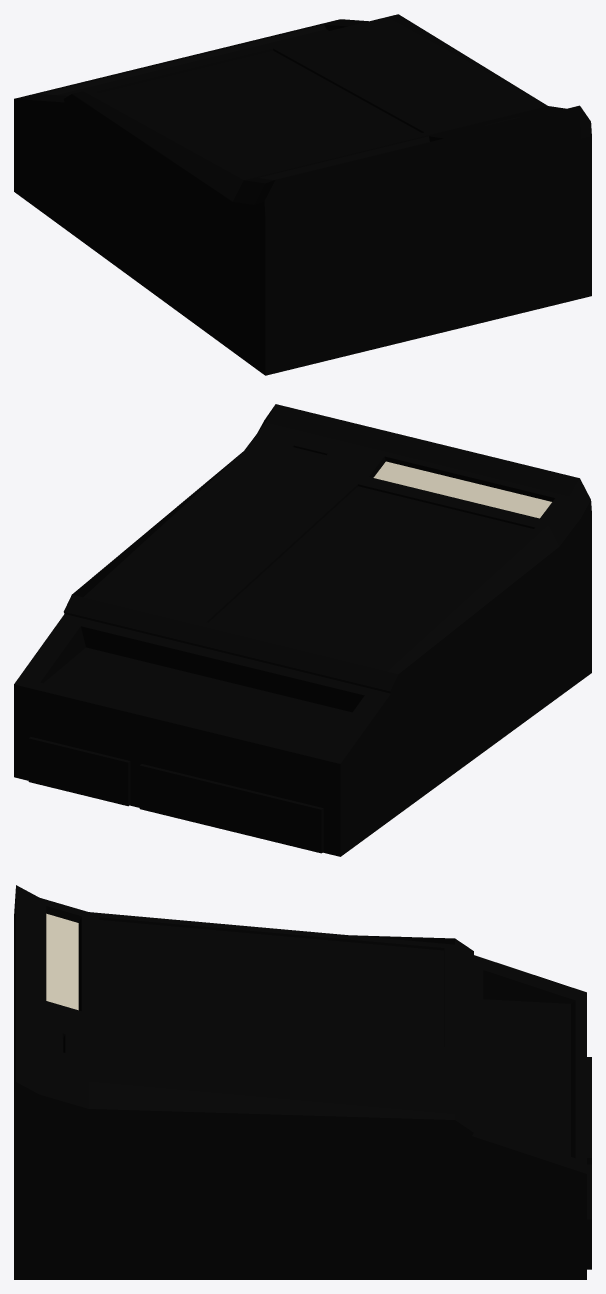
Rendered from CashRegister.fbx.
The picture shows the model from 3 angles, top to bottom: view 1: azimuth 30°, elevation 25°; view 2: azimuth 150°, elevation 25°; view 3: azimuth 270°, elevation 25°; orthographic projection. The views are drawn at different scales.
Visible parts, largest first — view 1: Cashier; view 2: Cashier; view 3: Cashier.
Boxes of the visible parts, x1,y1,x2,y2 form: Cashier: [14, 14, 591, 375]; Cashier: [14, 404, 591, 856]; Cashier: [14, 885, 591, 1279].
Size of the model in its own units: 16.24 by 9.15 by 21.84.
